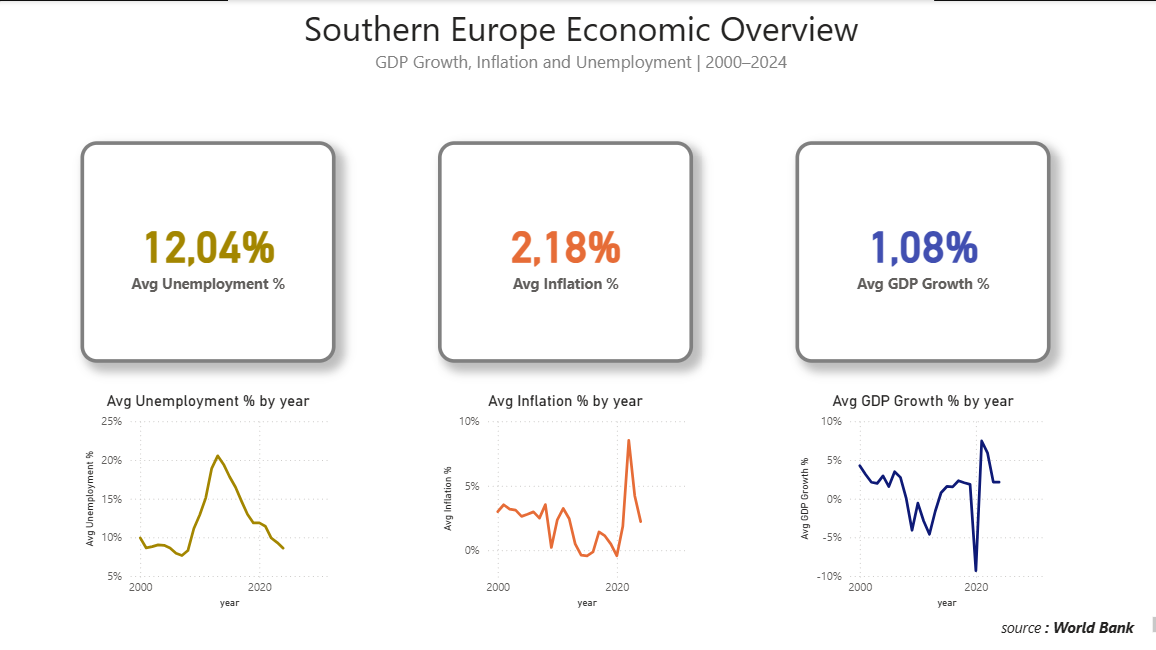

The dashboard page shown, as its layout file describes it:
{"tool":"powerbi","page":{"name":"Overview","canvas":[1280,720],"ordinal":0},"visuals":[{"type":"card","fields":{"Values":["southern_europe_economy economic_indicators.Avg Inflation %"]},"box":[483.3,155.1,279.9,242.9],"z":0},{"type":"card","fields":{"Values":["southern_europe_economy economic_indicators.Avg Unemployment %"]},"box":[90.8,155.1,279.9,242.9],"z":1000},{"type":"card","fields":{"Values":["southern_europe_economy economic_indicators.Avg GDP Growth %"]},"box":[875.7,155.1,279.9,242.9],"z":2000},{"type":"textbox","box":[252.5,0,775.3,93.3],"z":3000},{"type":"lineChart","fields":{"Category":["southern_europe_economy economic_indicators.year"],"Y":["southern_europe_economy economic_indicators.Avg Unemployment %"]},"box":[90.6,429.5,279.9,242.9],"z":4000},{"type":"lineChart","fields":{"Category":["southern_europe_economy economic_indicators.year"],"Y":["southern_europe_economy economic_indicators.Avg GDP Growth %"]},"box":[875.5,429.5,279.9,242.9],"z":5000},{"type":"lineChart","fields":{"Category":["southern_europe_economy economic_indicators.year"],"Y":["southern_europe_economy economic_indicators.Avg Inflation %"]},"box":[483,429.5,279.9,242.9],"z":6000},{"type":"textbox","box":[1096.4,672.4,183.9,28.8],"z":7000}]}

Visuals, with their boxes in screenshot pixels (x1, y1, x2, y2), scaled from the page's 1280x720 canvas onto the 1156x650 screenshot:
card - southern_europe_economy economic_indicators.Avg Inflation %: rect(436, 140, 689, 359)
card - southern_europe_economy economic_indicators.Avg Unemployment %: rect(82, 140, 335, 359)
card - southern_europe_economy economic_indicators.Avg GDP Growth %: rect(791, 140, 1044, 359)
textbox: rect(228, 0, 928, 84)
lineChart - southern_europe_economy economic_indicators.year x southern_europe_economy economic_indicators.Avg Unemployment %: rect(82, 388, 335, 607)
lineChart - southern_europe_economy economic_indicators.year x southern_europe_economy economic_indicators.Avg GDP Growth %: rect(791, 388, 1043, 607)
lineChart - southern_europe_economy economic_indicators.year x southern_europe_economy economic_indicators.Avg Inflation %: rect(436, 388, 689, 607)
textbox: rect(990, 607, 1155, 633)
